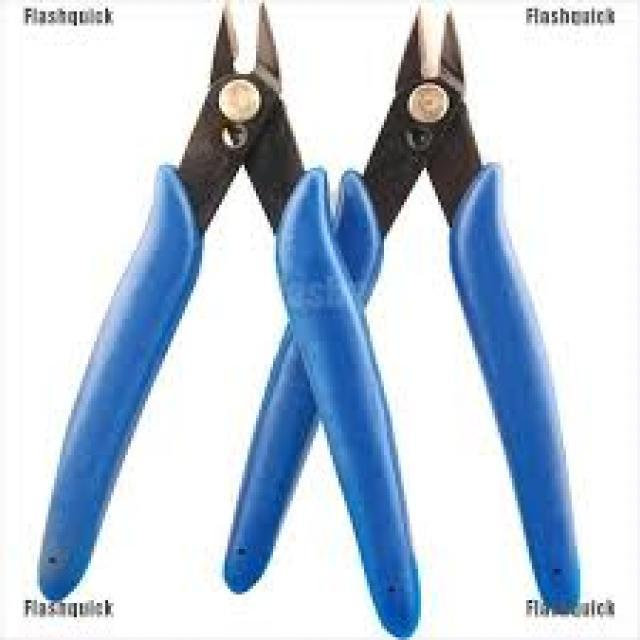pliers: (42, 4, 398, 622), (312, 6, 573, 584)
